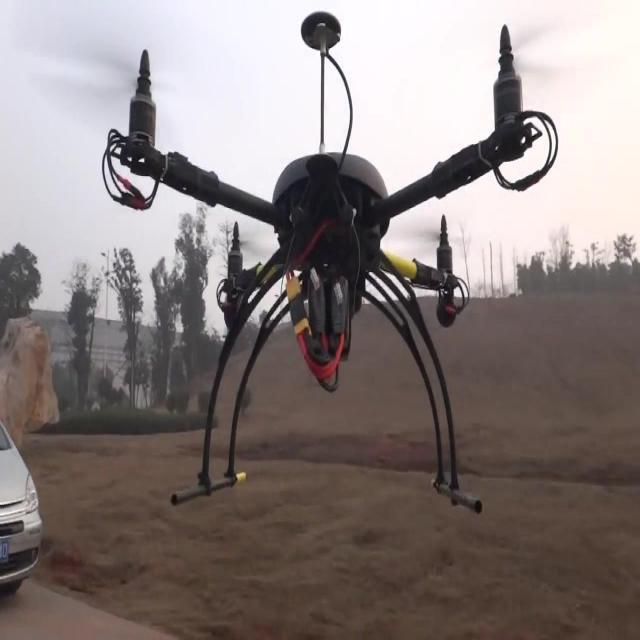drone: (101, 7, 561, 514)
